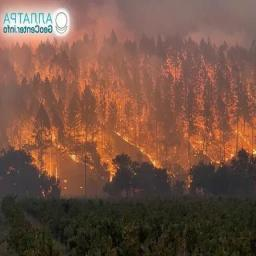Heavy smoke: (72, 1, 256, 70)
Large fire: (0, 39, 256, 182)
